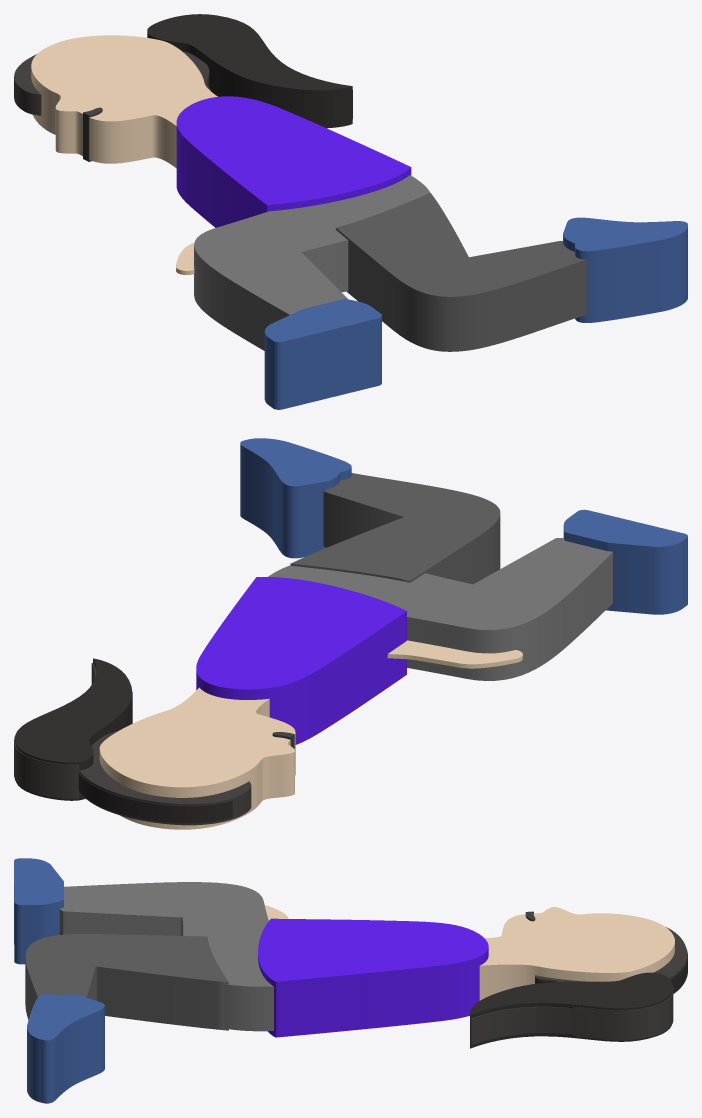
The model's file is emoji_u1f9ce_1f3fb_200d_2640.glb.
3 views of the same model, one above another, from view 1: azimuth 30°, elevation 25°; view 2: azimuth 150°, elevation 25°; view 3: azimuth 270°, elevation 25° (orthographic). The views are drawn at different scales.
Parts seen in each view (by area): view 1: emoji_u1f9ce_1f3fb_200d_2640; view 2: emoji_u1f9ce_1f3fb_200d_2640; view 3: emoji_u1f9ce_1f3fb_200d_2640.
Part boxes in pixels (x1=…): emoji_u1f9ce_1f3fb_200d_2640: x1=14, y1=14, x2=687, y2=409; emoji_u1f9ce_1f3fb_200d_2640: x1=14, y1=438, x2=687, y2=829; emoji_u1f9ce_1f3fb_200d_2640: x1=14, y1=858, x2=687, y2=1103.
Size of the model in its own units: 0.0212 by 0.0034 by 0.0329.
